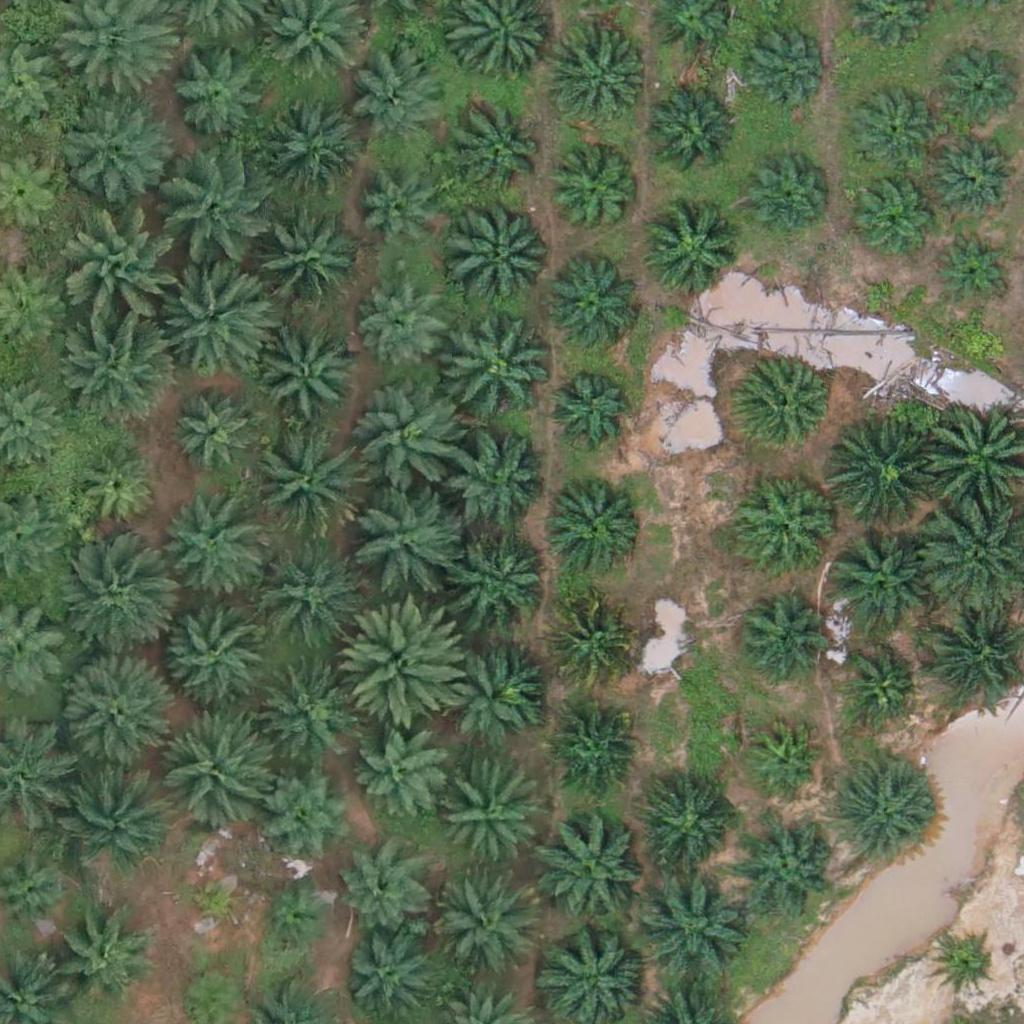Kelapa_Sawit: (344, 601, 469, 727), (346, 479, 459, 593), (247, 208, 360, 322), (635, 867, 748, 980), (536, 811, 649, 924), (248, 427, 361, 540), (252, 539, 365, 652), (159, 594, 272, 707), (56, 655, 169, 768), (825, 421, 938, 534), (440, 310, 553, 423), (164, 154, 277, 267), (63, 312, 176, 425), (353, 385, 466, 498), (56, 757, 168, 871), (446, 195, 558, 309), (69, 216, 181, 330), (152, 495, 264, 608), (157, 712, 269, 825), (54, 546, 166, 659), (159, 259, 271, 372), (56, 90, 168, 203), (826, 530, 926, 631), (546, 472, 646, 573), (453, 531, 553, 632), (439, 768, 539, 869), (434, 880, 534, 981), (256, 660, 356, 761), (258, 761, 358, 862), (50, 909, 150, 1010), (640, 86, 740, 187), (641, 202, 741, 303), (550, 30, 650, 131), (259, 324, 359, 425), (164, 36, 264, 137), (834, 765, 934, 865), (737, 473, 837, 573), (740, 818, 840, 918), (448, 438, 548, 538), (438, 638, 538, 738), (735, 358, 835, 458), (543, 258, 643, 358), (452, 102, 552, 202), (353, 46, 453, 146), (260, 102, 360, 202), (734, 590, 822, 678), (645, 785, 733, 873), (545, 596, 633, 684), (338, 848, 426, 936), (71, 445, 159, 533), (736, 19, 824, 107), (552, 152, 640, 240), (544, 365, 632, 453), (171, 390, 259, 478), (548, 704, 635, 792), (356, 728, 443, 816), (743, 154, 830, 242), (853, 171, 940, 259), (849, 86, 936, 174), (934, 47, 1021, 135), (935, 131, 1022, 219), (357, 179, 444, 267), (362, 284, 449, 372), (257, 881, 332, 957), (936, 228, 1011, 304), (746, 721, 821, 797), (841, 647, 916, 722), (934, 934, 997, 997), (183, 869, 245, 932)
